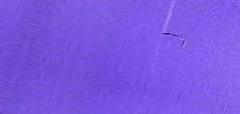snag: (161, 29, 190, 51)
